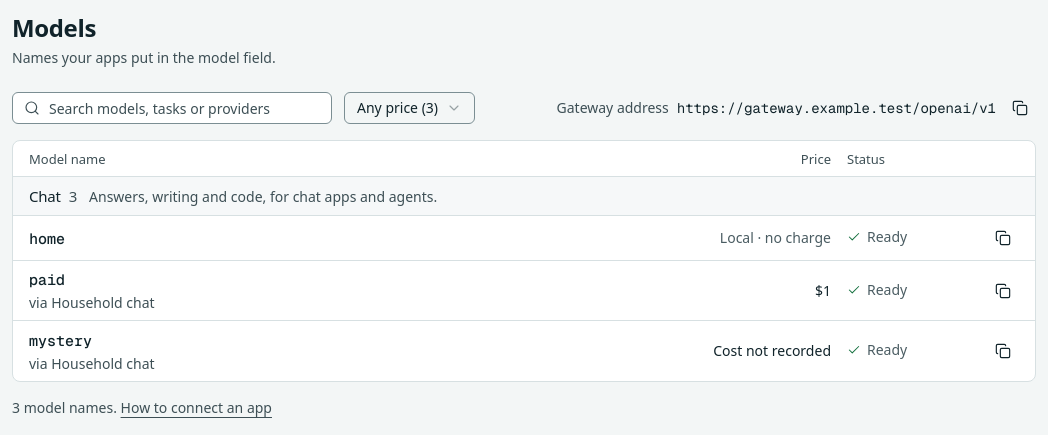
price and status › filters by the Price select, offering only the price kinds the catalog has
Check: the button "home" is shown, box 29,228 -> 65,250
Click the dropdown labelled "price" at (410, 108), box 344,92 -> 475,124
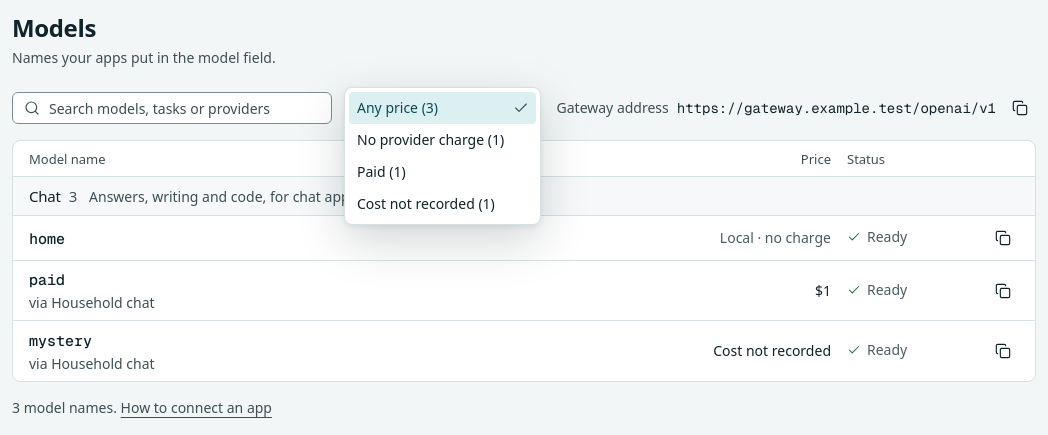
Check: the options read "Any price (3)", "No provider charge (1)", "Paid (1)", "Cost not recorded (1)", in this order
Click the option "Paid (1)" at (381, 172), box 357,162 -> 406,181
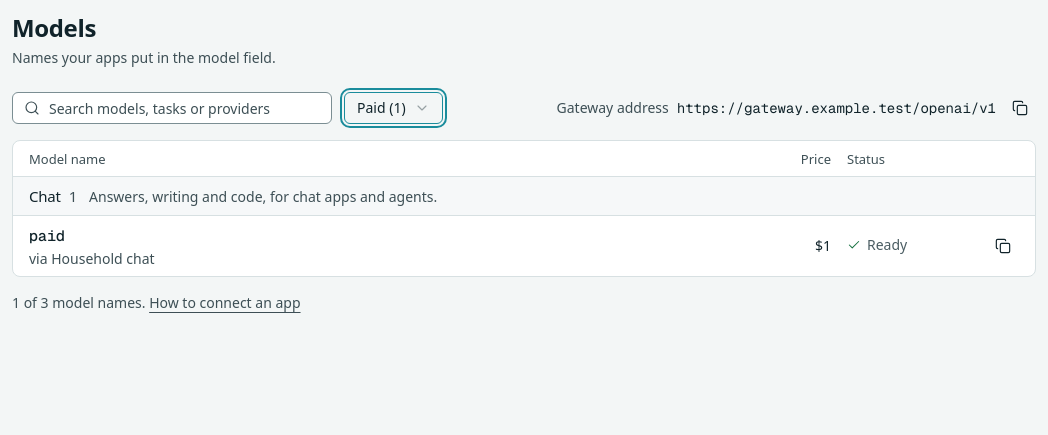
Check: the button "home" is gone
Check: the button "mystery" is gone
Check: the text "1 of 3 model names." is shown, box 12,293 -> 146,312
Click the dropdown named "Price" at (393, 108), box 344,92 -> 443,124
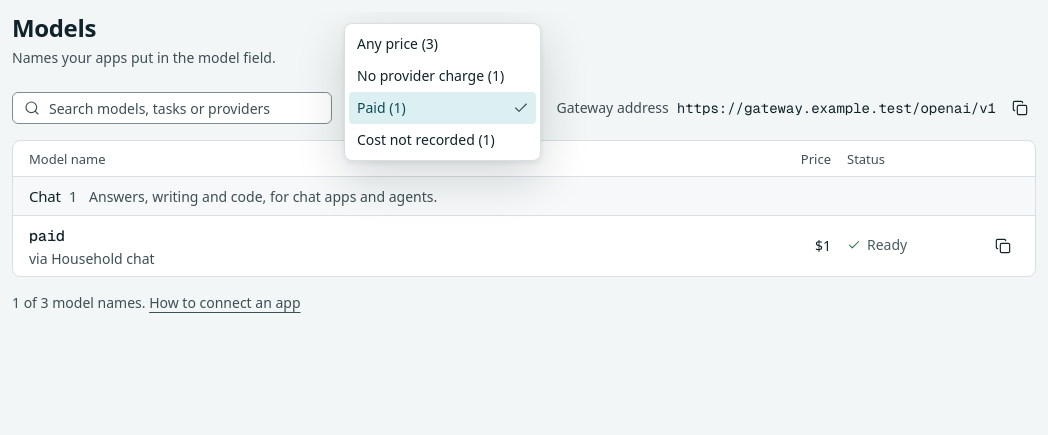
Click the option "Cost not recorded (1)" at (426, 140), box 357,130 -> 495,149
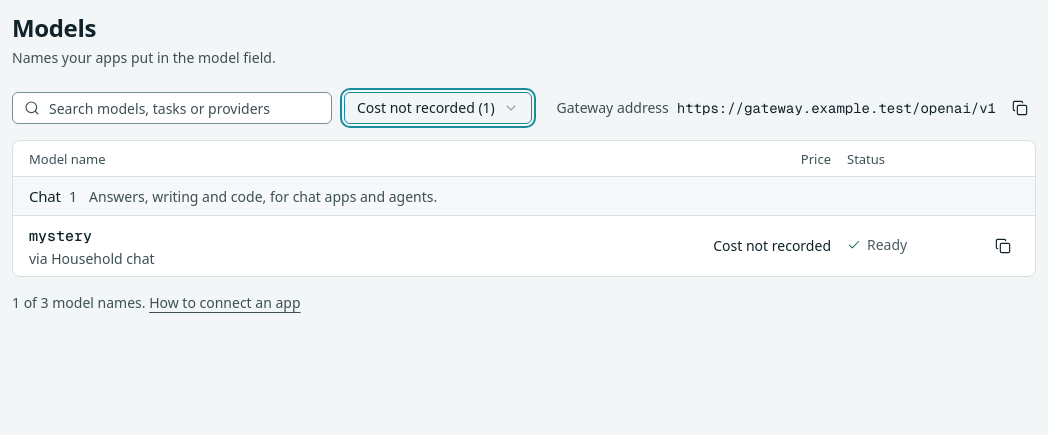
Check: the button "mystery" is shown, box 29,224 -> 92,246
Check: the dropdown labelled "Paid" is gone
Click the dropdown named "Price" at (438, 108), box 344,92 -> 532,124
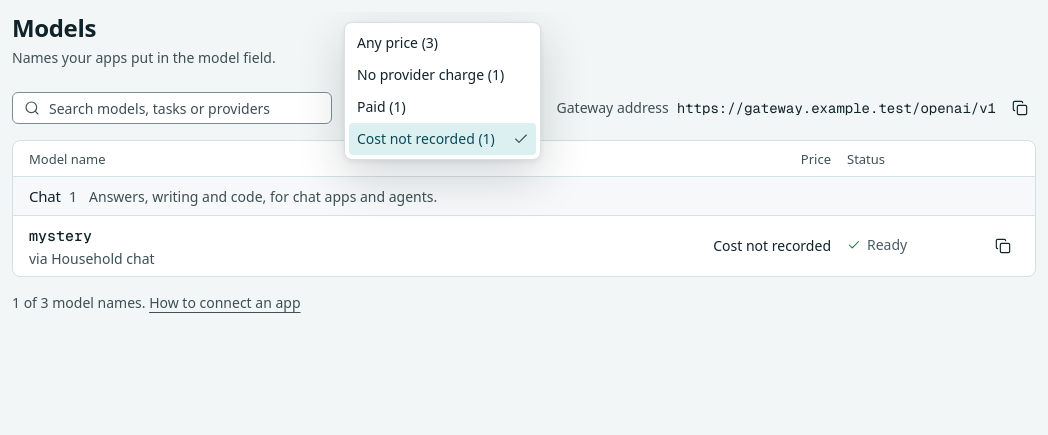
Click the option "Any price (3)" at (398, 42), box 357,33 -> 438,52
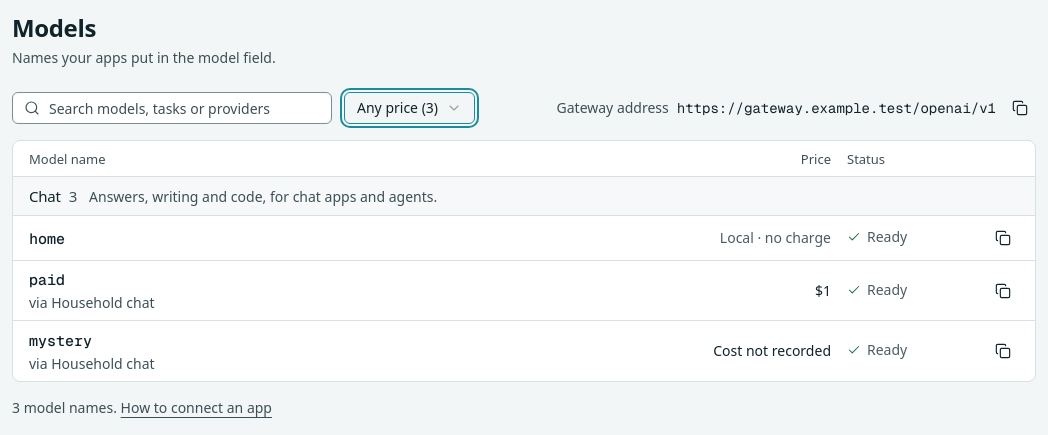
Check: the text "3 model names." is shown, box 12,398 -> 117,417
